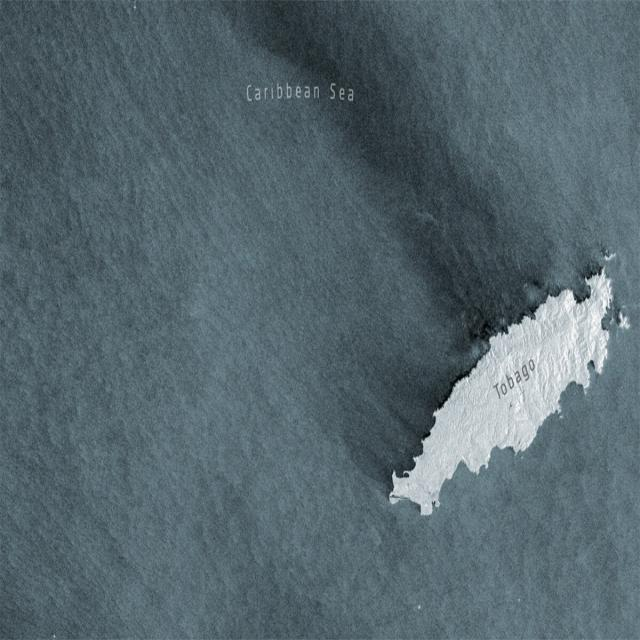oil spill: (390, 275, 611, 514)
